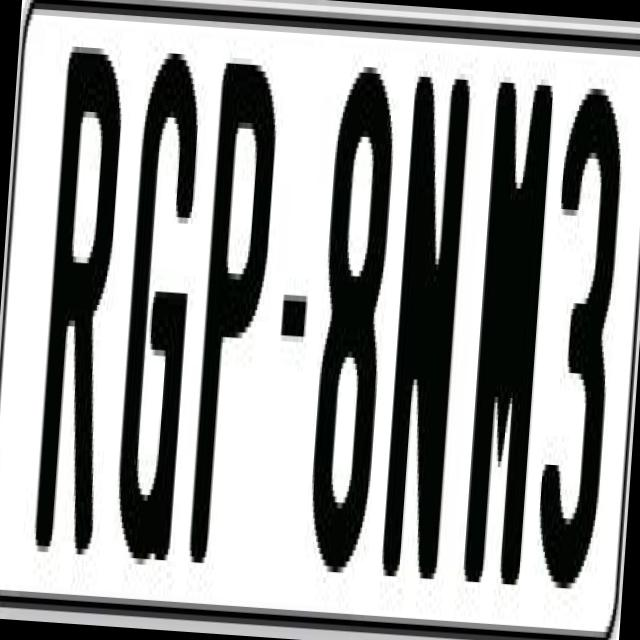3: (531, 87, 633, 590)
8: (304, 47, 404, 586)
G: (111, 46, 209, 578)
M: (456, 70, 548, 596)
N: (380, 59, 473, 590)
P: (188, 51, 282, 566)
R: (27, 28, 125, 560)
